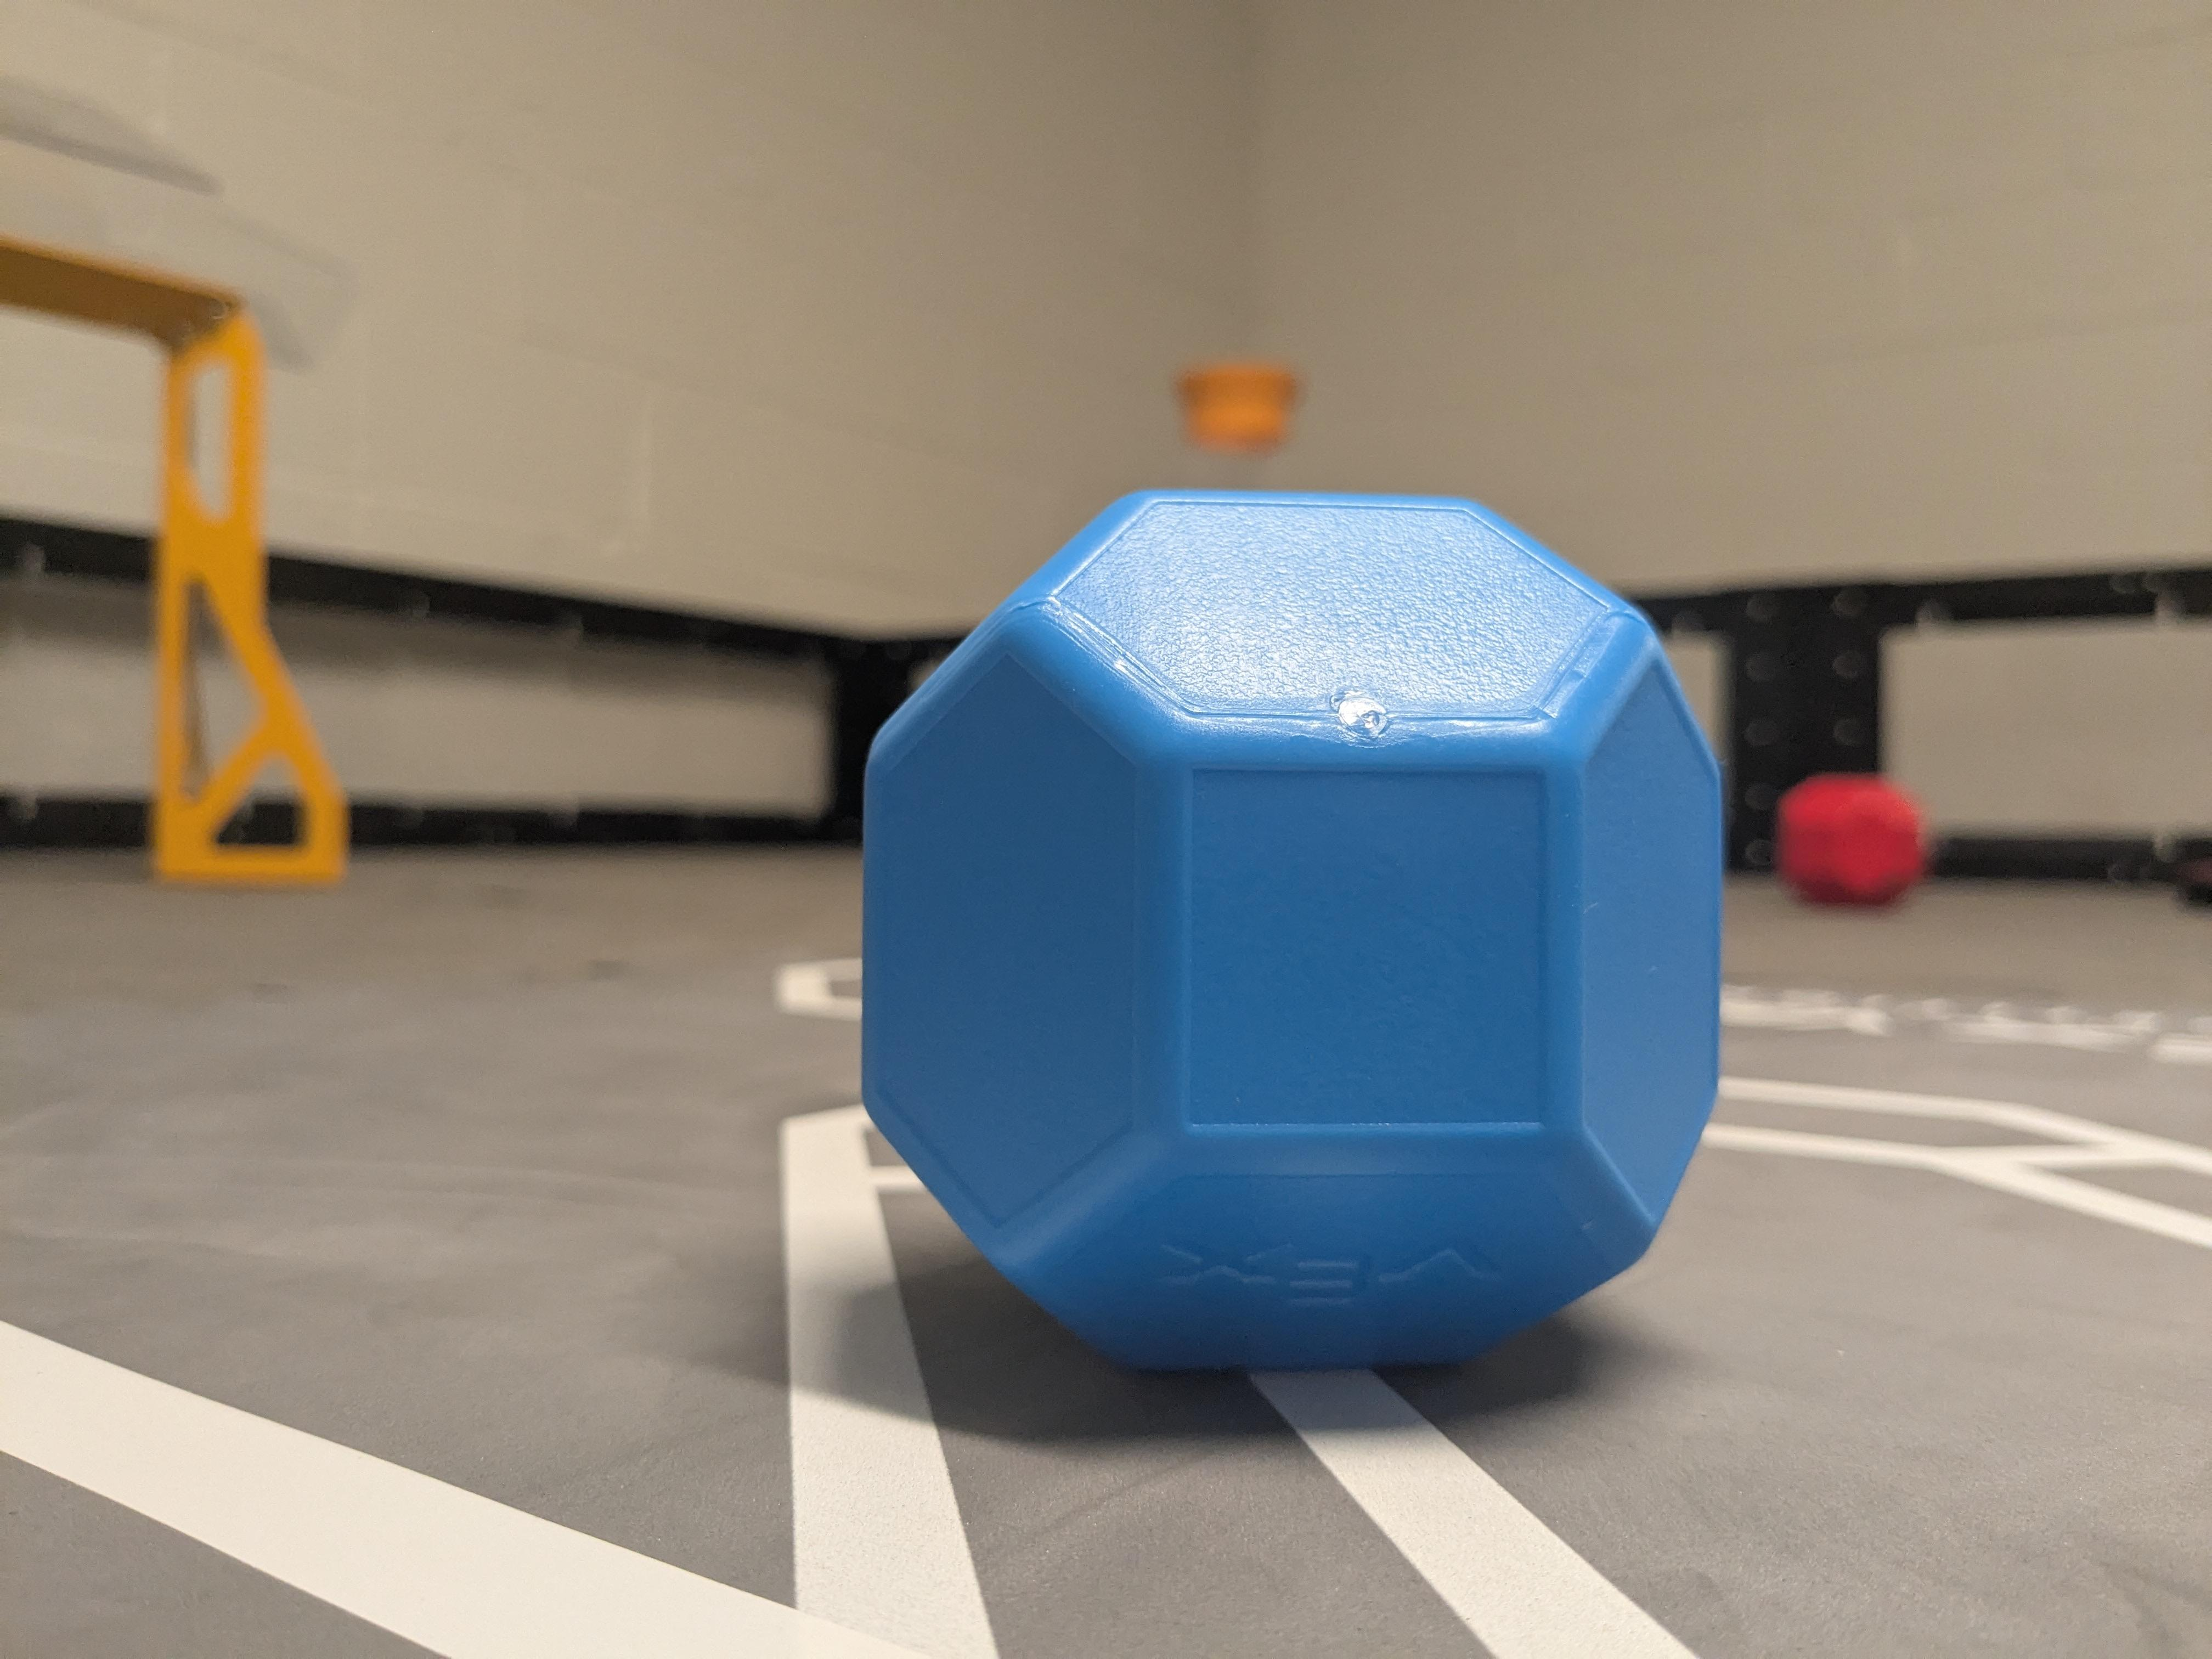Vex-Pieces-BLUE: (864, 491, 1738, 1377)
